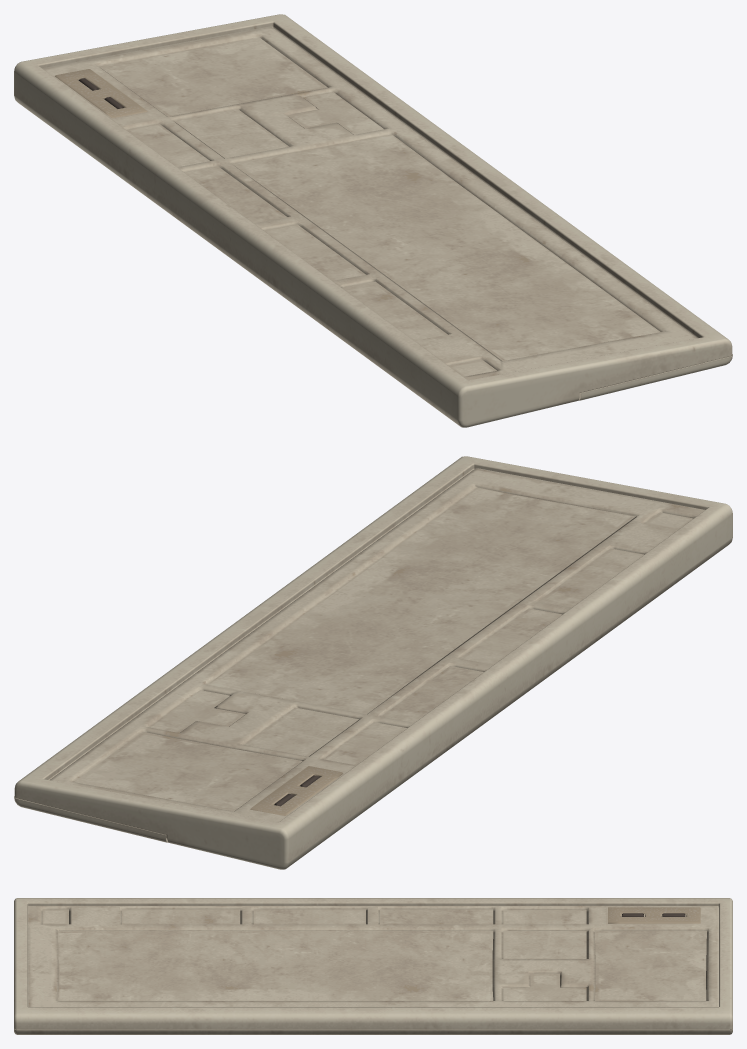
Rendered from Old_Keyboard.glb.
The picture shows the model from 3 angles, top to bottom: view 1: azimuth 30°, elevation 25°; view 2: azimuth 150°, elevation 25°; view 3: azimuth 270°, elevation 25°; orthographic projection. The views are drawn at different scales.
Visible parts, largest first — view 1: C_keyboard_low_blinn2_0; view 2: C_keyboard_low_blinn2_0; view 3: C_keyboard_low_blinn2_0.
Part boxes in pixels (box(x1,y1,x2,y2)): C_keyboard_low_blinn2_0: box(14, 14, 732, 427); C_keyboard_low_blinn2_0: box(14, 456, 732, 869); C_keyboard_low_blinn2_0: box(14, 898, 732, 1034).
Bounding box in the file's own units: 17.28 × 2.83 × 48.67.
Materials: 1 (1 with a texture image).
